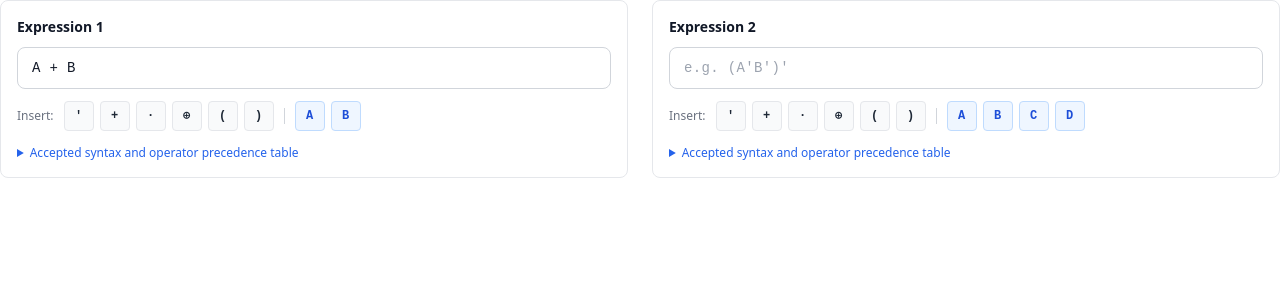
Test: EquivalencePanel › confirms two equivalent expressions using De Morgan duals
The image size is (1280, 297).
Type "(A'B')'" into the field labelled "Expression 2" at {"x": 966, "y": 68}, box [669,47,1263,89]
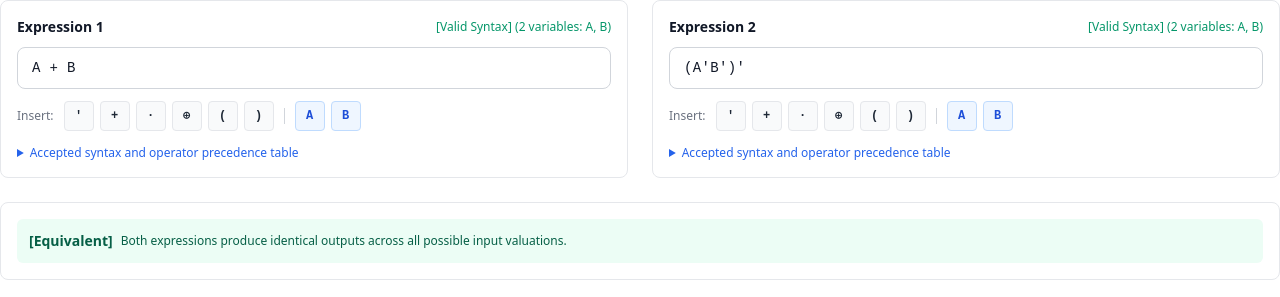
Expected: the text "[Equivalent]" is shown, [29,231,113,251]
